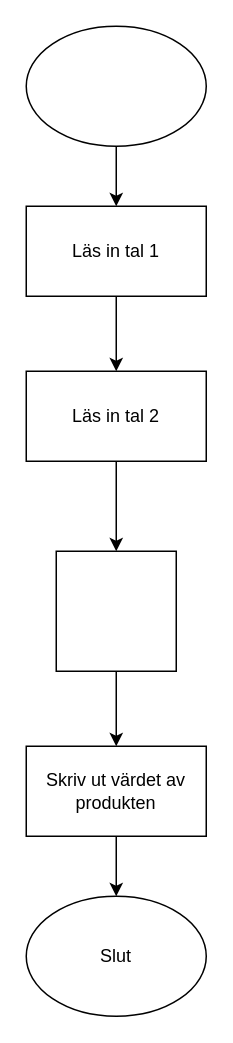
Some shapes in this 233 by 1043 pixel diagram are drawn without their labels. Here are the shapes that lost their labels. From the top down, the centre of each, then its label:
At pixel 115 85: "Start".
At pixel 115 610: "Utför multiplikation och spara värde i en variabel".
